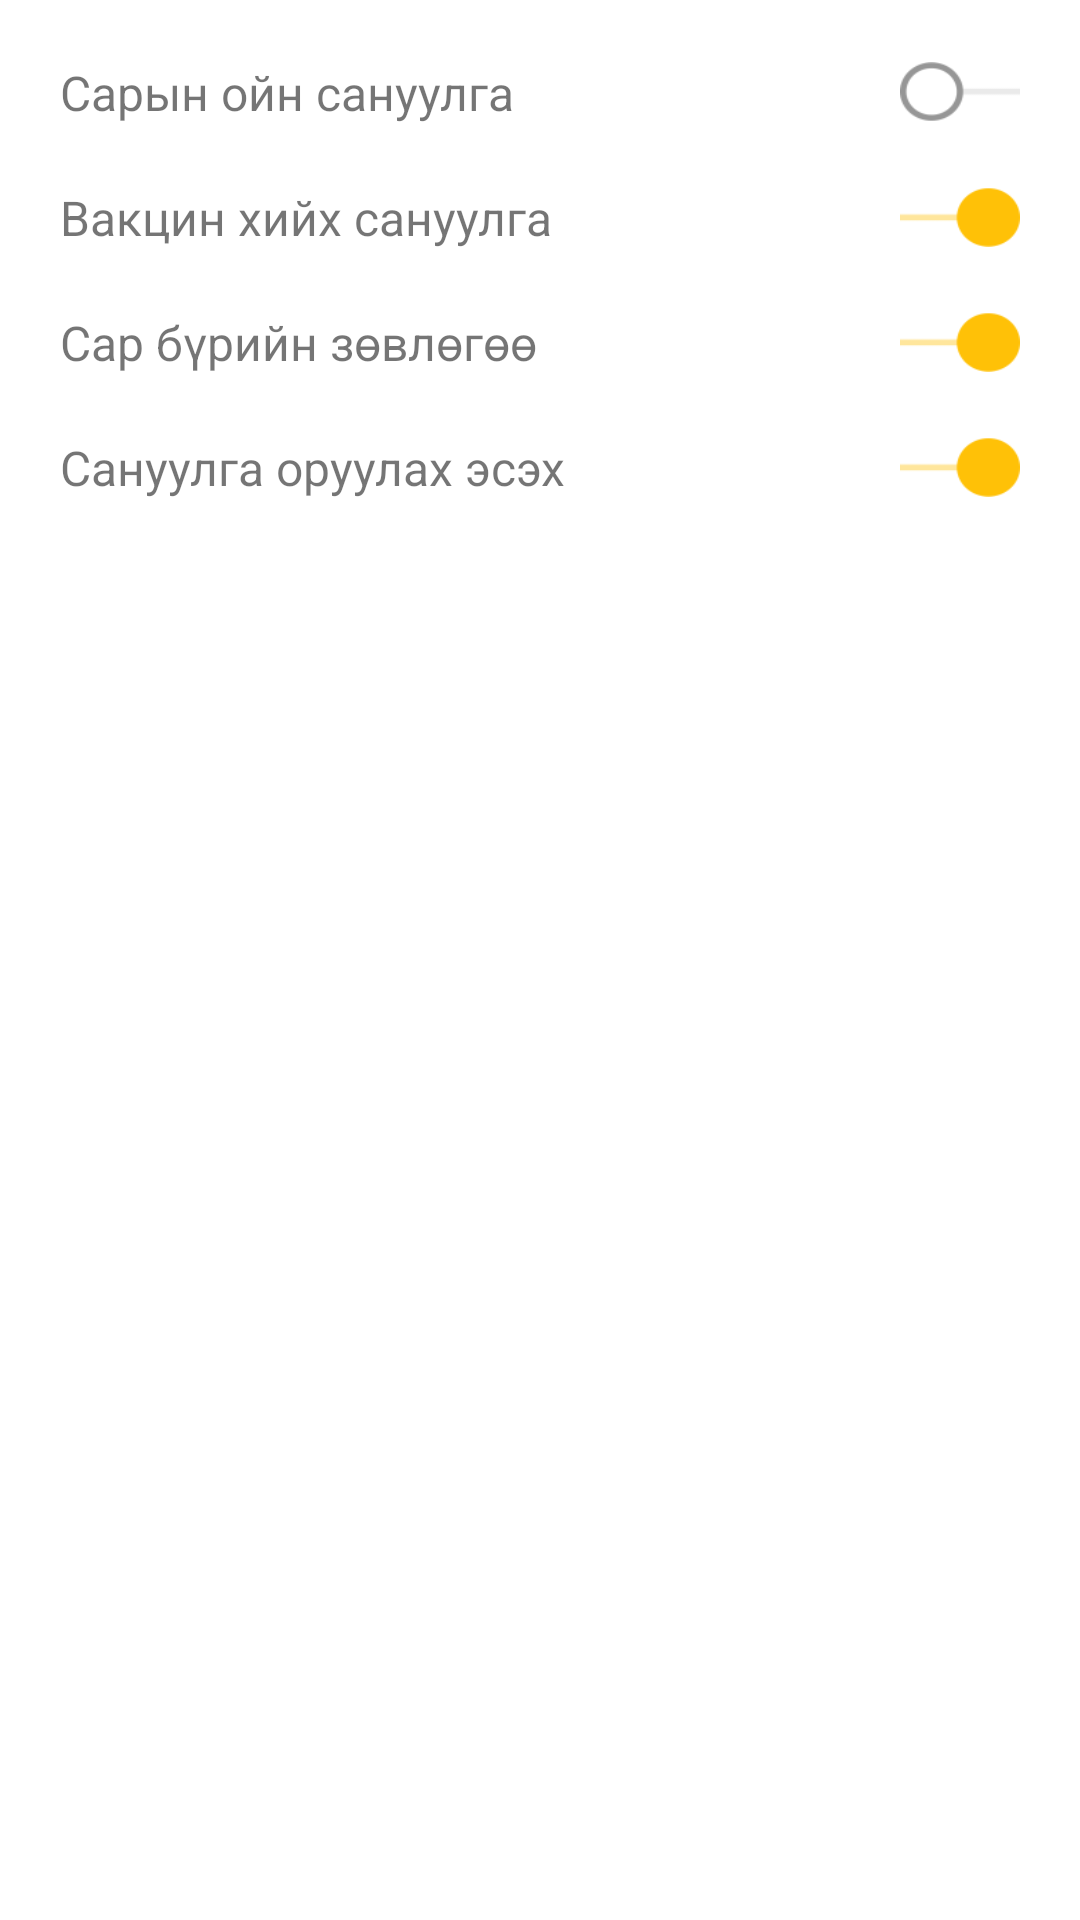

Icon click points for this 1080px x 1920px phone screenshot, format [x,y]:
toggle off: [932,91]
toggle on: [960,217], [960,342], [960,467]
